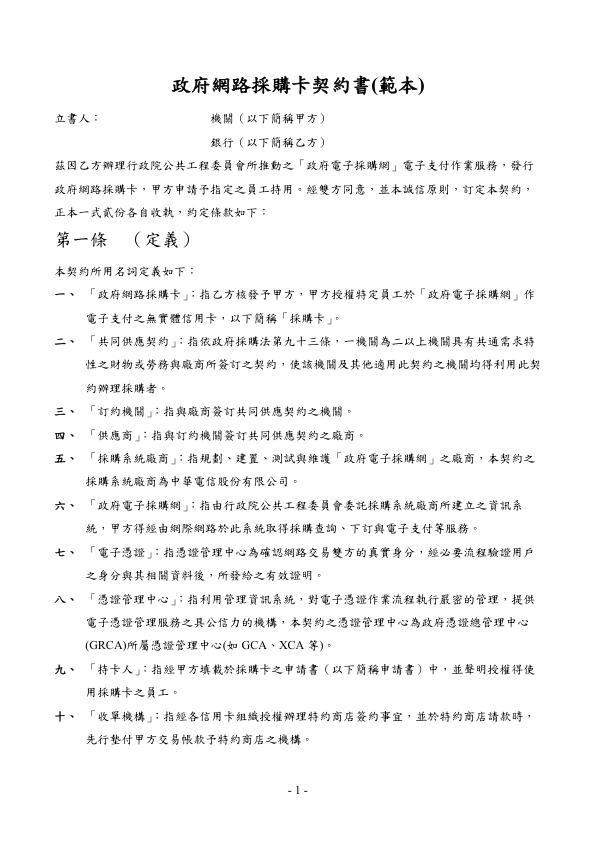text: (48, 332, 548, 399), (52, 158, 543, 222), (48, 590, 545, 653), (47, 495, 528, 540), (48, 449, 541, 490), (49, 544, 542, 585), (53, 707, 544, 748), (50, 661, 545, 701), (48, 288, 541, 326), (167, 74, 431, 98), (49, 428, 370, 444), (50, 404, 355, 420), (50, 227, 197, 252), (49, 262, 195, 280), (208, 110, 327, 127), (209, 135, 328, 152), (51, 111, 102, 128)
